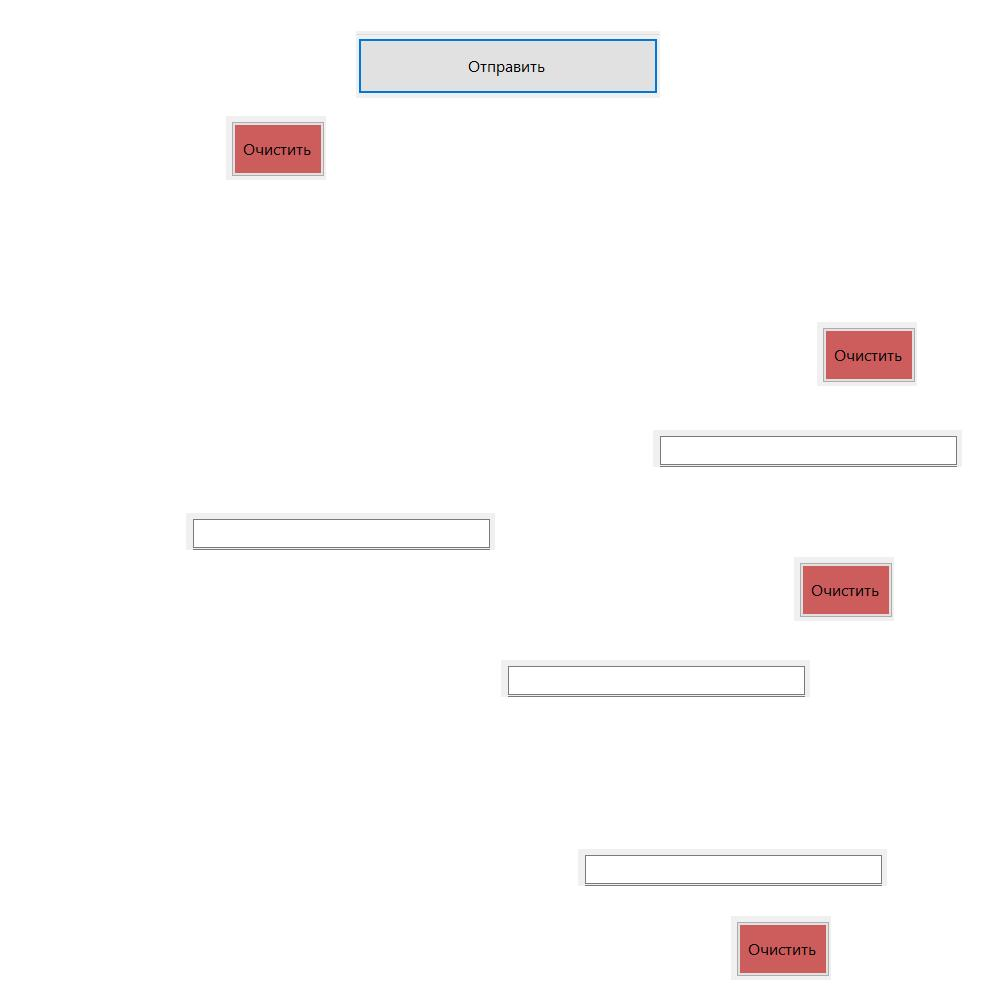Button: (356, 31, 660, 98), (731, 916, 831, 980), (794, 557, 894, 621), (817, 322, 917, 386), (226, 116, 326, 180)
EditText-: (578, 849, 887, 886), (186, 513, 495, 550), (653, 430, 962, 467), (501, 660, 810, 697)
